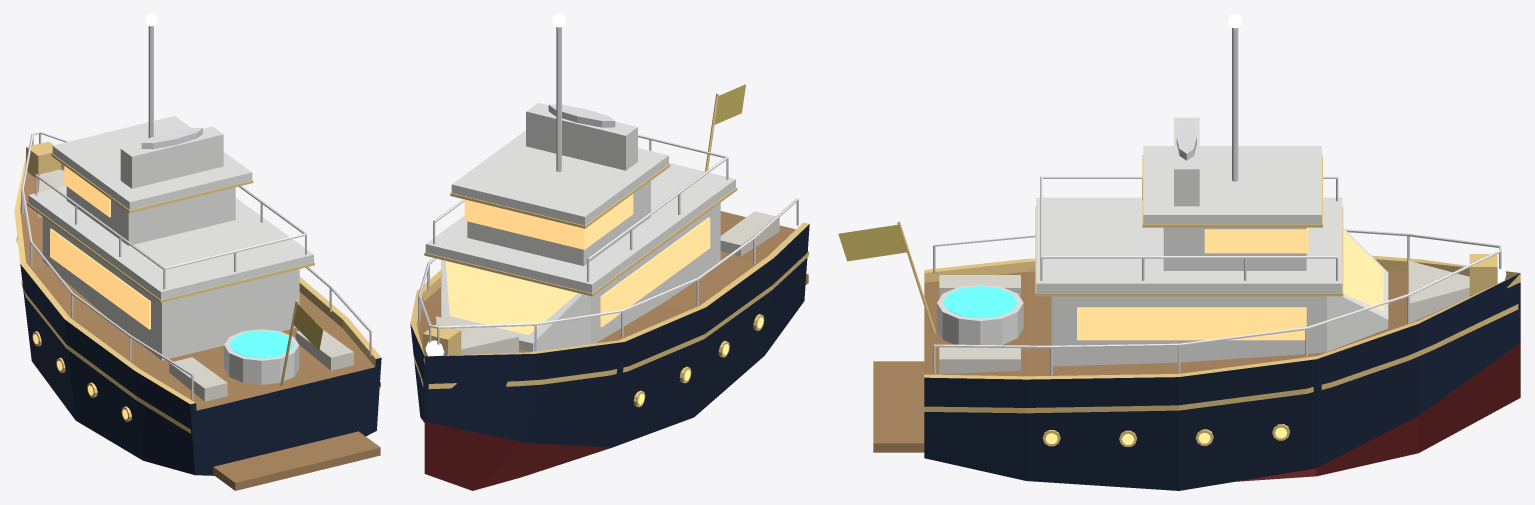
The model's file is yacht.glb.
3 views of the same model, side by side, from view 1: azimuth 30°, elevation 25°; view 2: azimuth 150°, elevation 25°; view 3: azimuth 270°, elevation 25° (orthographic). The views are drawn at different scales.
Visible parts, largest first — view 1: Hull, SalonRoof, Salon, BridgeRoof, Bridge, SwimPlatform, Arch, SalonWinL, Tub, Lounger.001, TubWater, Lounger (+11 smaller); view 2: Hull, SalonRoof, BridgeRoof, SalonScreen, Arch, Salon, BridgeWin, SalonWinL, Bridge, SalonNose, PinStripe.001, BowPad (+8 smaller); view 3: Hull, SalonRoof, BridgeRoof, Salon, SalonWinR, SwimPlatform, Bridge, PinStripe, Tub, SalonNose, BridgeWin, BowPad (+11 smaller).
Boxes of the visible parts, x1,y1,x2,y2 form: Hull: [14, 156, 381, 475]; SalonRoof: [28, 186, 313, 299]; Salon: [42, 217, 299, 360]; BridgeRoof: [52, 116, 252, 209]; Bridge: [66, 186, 235, 245]; SwimPlatform: [213, 431, 380, 490]; Arch: [120, 126, 223, 188]; SalonWinL: [50, 228, 150, 329]; Tub: [224, 329, 299, 384]; Lounger.001: [169, 357, 227, 401]; TubWater: [229, 330, 293, 358]; Lounger: [295, 329, 353, 370]; Hull: [410, 211, 809, 490]; SalonRoof: [425, 163, 735, 293]; BridgeRoof: [451, 130, 668, 225]; SalonScreen: [445, 261, 577, 335]; Arch: [526, 103, 637, 170]; Salon: [590, 203, 720, 343]; BridgeWin: [464, 194, 633, 249]; SalonWinL: [600, 217, 710, 327]; Bridge: [467, 181, 650, 266]; SalonNose: [441, 259, 590, 351]; PinStripe.001: [428, 251, 808, 389]; BowPad: [436, 316, 518, 354]; Hull: [924, 255, 1520, 490]; SalonRoof: [1036, 197, 1342, 292]; BridgeRoof: [1143, 146, 1321, 224]; Salon: [1051, 296, 1326, 366]; SalonWinR: [1077, 307, 1306, 340]; SwimPlatform: [873, 361, 924, 452]; Bridge: [1163, 227, 1306, 270]; PinStripe: [924, 304, 1518, 413]; Tub: [937, 284, 1023, 345]; SalonNose: [1327, 228, 1388, 351]; BridgeWin: [1204, 227, 1308, 253]; BowPad: [1408, 261, 1469, 322].
Bounding box in the file's own units: 0.4756 × 0.8364 × 1.1.
